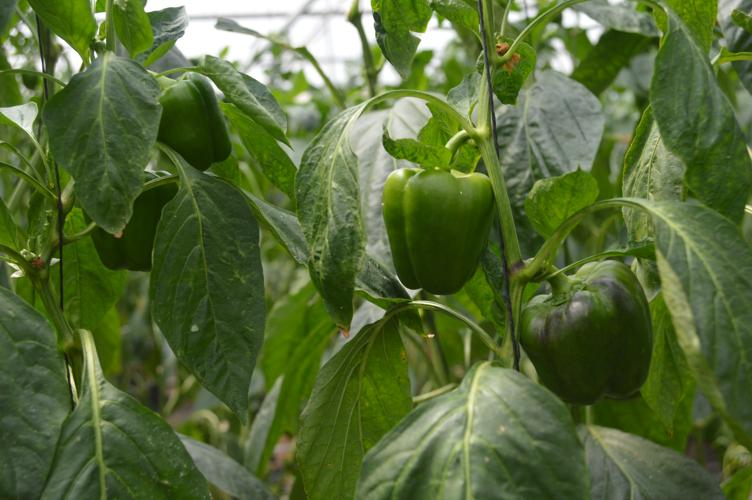BellPepper: (514, 257, 648, 404), (380, 171, 492, 294), (79, 148, 171, 276), (147, 71, 227, 167)
